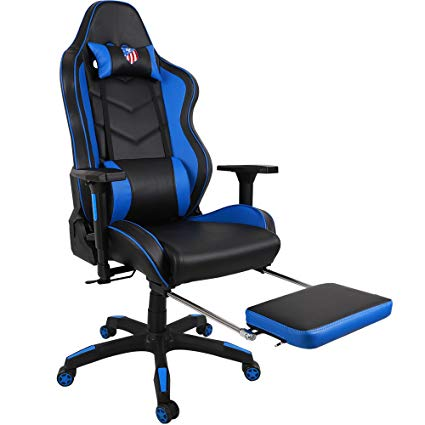chairs: (47, 1, 394, 425)
